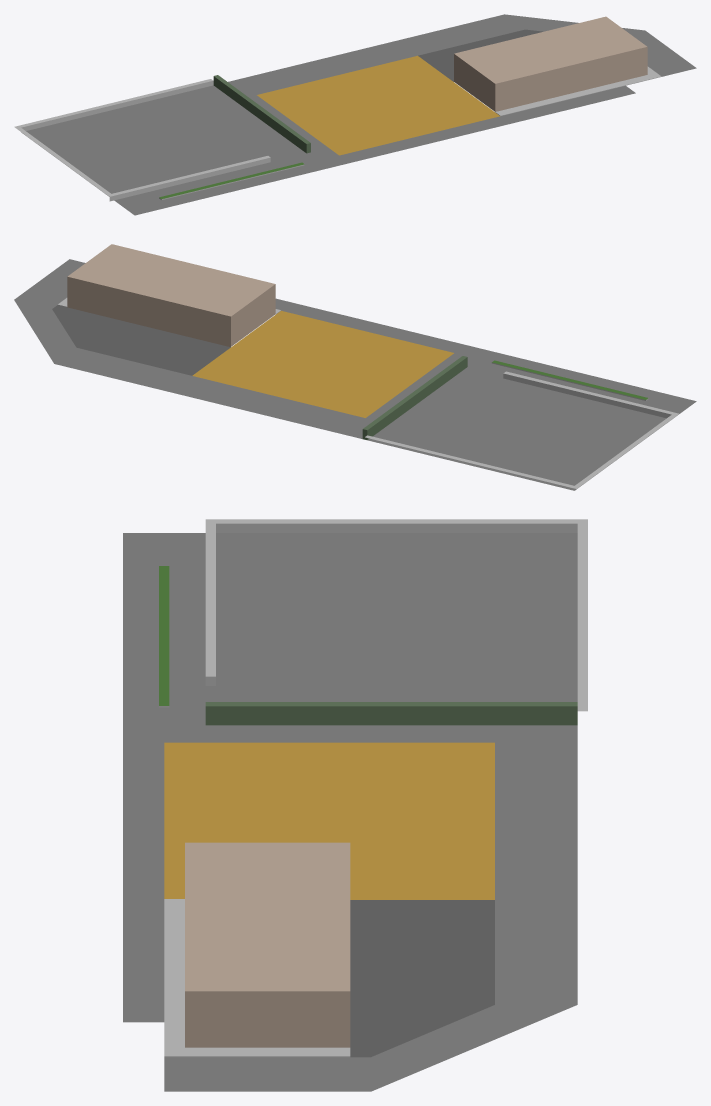
Rendered from chunk_bus.glb.
3 views of the same model, one above another, from view 1: azimuth 30°, elevation 25°; view 2: azimuth 150°, elevation 25°; view 3: azimuth 270°, elevation 25° (orthographic). The views are drawn at different scales.
Visible parts, largest first — view 1: Plane, Building, Fences; view 2: Plane, Building, Fences; view 3: Plane, Building, Fences.
Boxes of the visible parts, x1,y1,x2,y2 form: Plane: [21, 14, 696, 215]; Building: [454, 16, 661, 116]; Fences: [14, 75, 310, 201]; Plane: [14, 259, 696, 490]; Building: [57, 244, 280, 347]; Fences: [362, 356, 678, 488]; Plane: [123, 533, 577, 1091]; Building: [164, 842, 350, 1057]; Fences: [159, 519, 587, 725].
Size of what is drawn, in the model's own units: 129 by 6.1 by 45.
